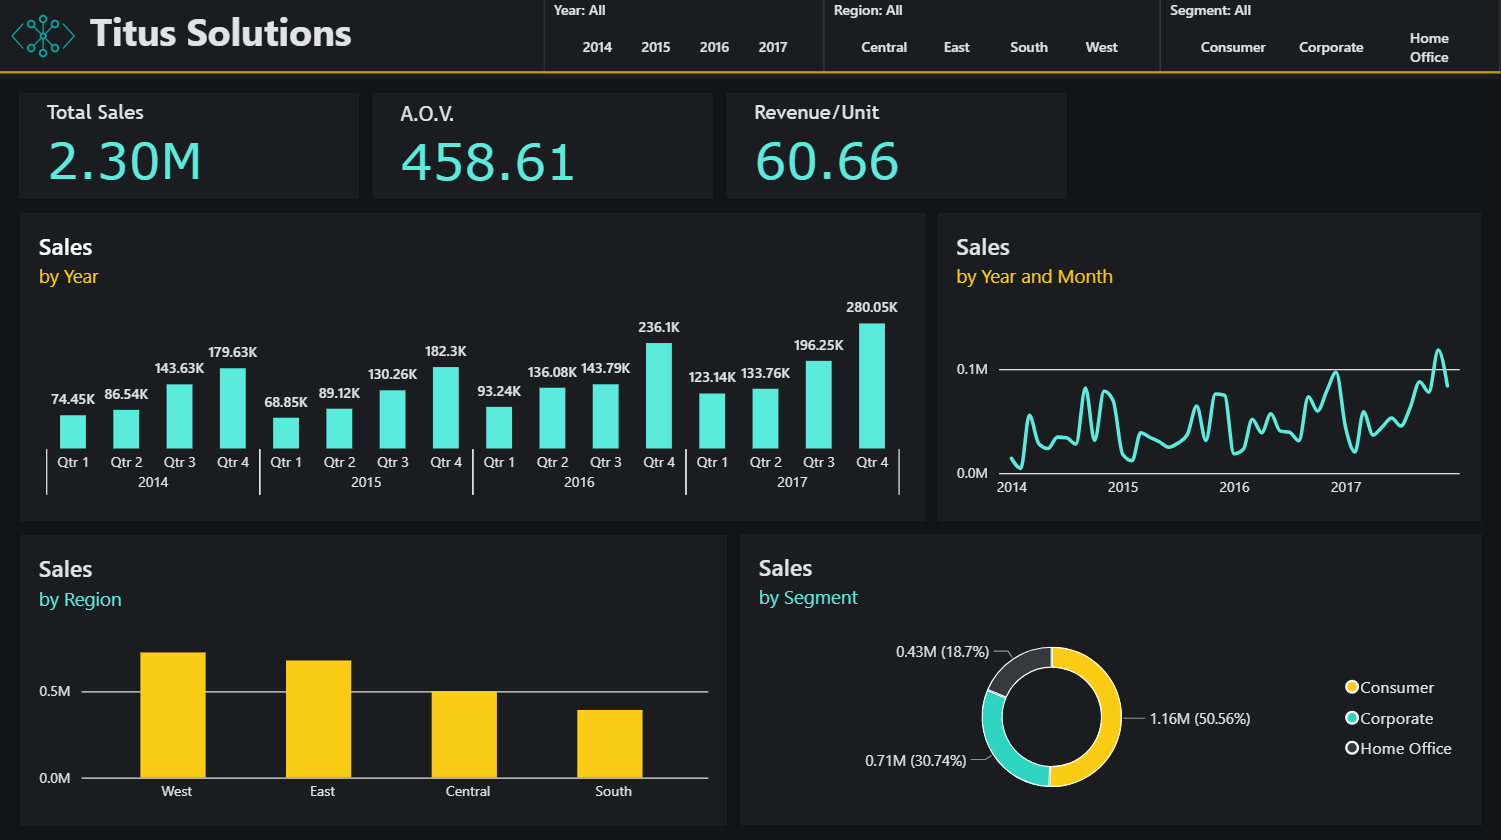

Layout of this report page (visuals, bound fields, positions):
{"tool":"powerbi","page":{"name":"Page 3","canvas":[1280,720],"ordinal":2},"visuals":[{"type":"textbox","box":[0,1.2,1280,61.6],"z":0,"group":"g1"},{"type":"clusteredColumnChart","title":"Sales","fields":{"Category":["public superstore.Order Date.Variation.Date Hierarchy.Year","public superstore.Order Date.Variation.Date Hierarchy.Quarter"],"Y":["Sum(public superstore.Sales)"]},"box":[16.6,182,772.7,263.1],"z":0},{"type":"lineChart","title":"Sales","fields":{"Y":["Sum(public superstore.Sales)"],"Category":["public superstore.Order Date.Variation.Date Hierarchy.Year","public superstore.Order Date.Variation.Date Hierarchy.Month"]},"box":[800,182,464,263.1],"z":1000},{"type":"slicer","fields":{"Values":["public superstore.Region"]},"box":[702.8,0,286.8,62.8],"z":2000,"group":"g1"},{"type":"clusteredColumnChart","title":"Sales","fields":{"Y":["Sum(public superstore.Sales)"],"Category":["public superstore.Region"]},"box":[16.6,457,603.3,247.7],"z":2000},{"type":"donutChart","title":"Sales","fields":{"Y":["Sum(public superstore.Sales)"],"Category":["public superstore.Segment"]},"box":[631,456.3,633,248],"z":3000},{"type":"slicer","fields":{"Values":["public superstore.Segment"]},"box":[989.6,0,290.4,62.8],"z":4000,"group":"g1"},{"type":"cardVisual","fields":{"Data":["Sum(public measures.total_sales)"]},"box":[16.2,80,290,90],"z":4000},{"type":"cardVisual","fields":{"Data":["Sum(public measures.aov)"]},"box":[318,80,290,90],"z":5000},{"type":"slicer","fields":{"Values":["public superstore.Order Date.Variation.Date Hierarchy.Year"]},"box":[463.4,0,239.4,62.8],"z":6000,"group":"g1"},{"type":"cardVisual","fields":{"Data":["public measures.Revenue/Unit"]},"box":[620,80,290,90],"z":6000},{"type":"group","id":"g1","title":"Group 1","box":[0,0,1280,68],"z":7000},{"type":"shape","box":[0,56,1280,12],"z":12000,"group":"g1"},{"type":"image","box":[0,0,73.5,62.8],"z":14000,"group":"g1"}]}

Visuals, with their boxes in screenshot pixels (x1, y1, x2, y2), scaled from the page's 1280x720 canvas onto the 1501x840 screenshot:
textbox: 0, 1, 1500, 73
"Sales" clusteredColumnChart: 19, 212, 926, 519
"Sales" lineChart: 938, 212, 1482, 519
slicer - public superstore.Region: 824, 0, 1160, 73
"Sales" clusteredColumnChart: 19, 533, 727, 822
"Sales" donutChart: 740, 532, 1482, 822
slicer - public superstore.Segment: 1160, 0, 1500, 73
cardVisual - Sum(public measures.total_sales): 19, 93, 359, 198
cardVisual - Sum(public measures.aov): 373, 93, 713, 198
slicer - public superstore.Order Date.Variation.Date Hierarchy.Year: 543, 0, 824, 73
cardVisual - public measures.Revenue/Unit: 727, 93, 1067, 198
"Group 1" group: 0, 0, 1500, 79
shape: 0, 65, 1500, 79
image: 0, 0, 86, 73
